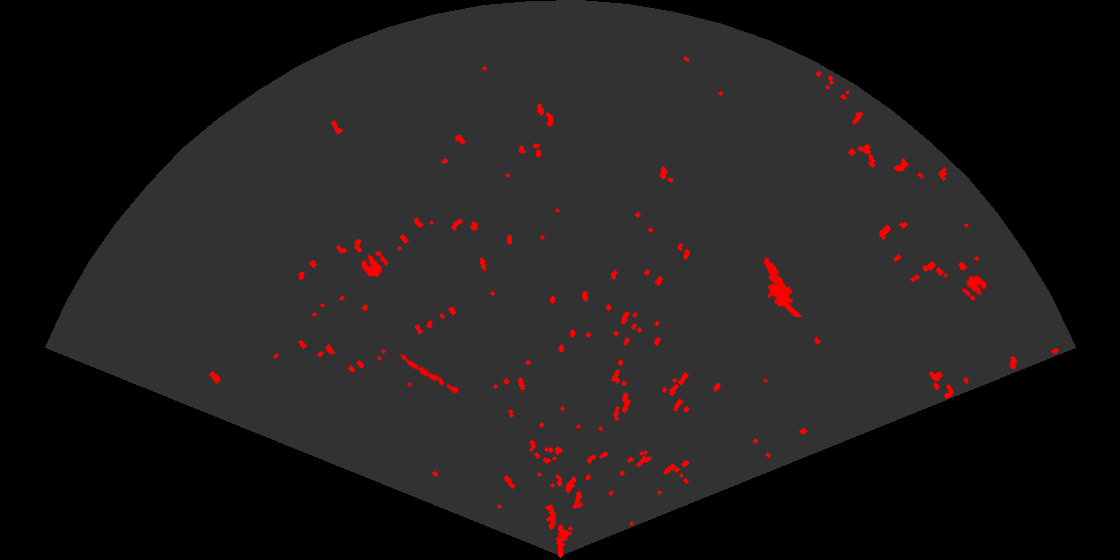ball: (360, 249, 390, 279), (960, 274, 989, 302)
chain: (390, 349, 462, 397)
frogman: (762, 256, 804, 317)
